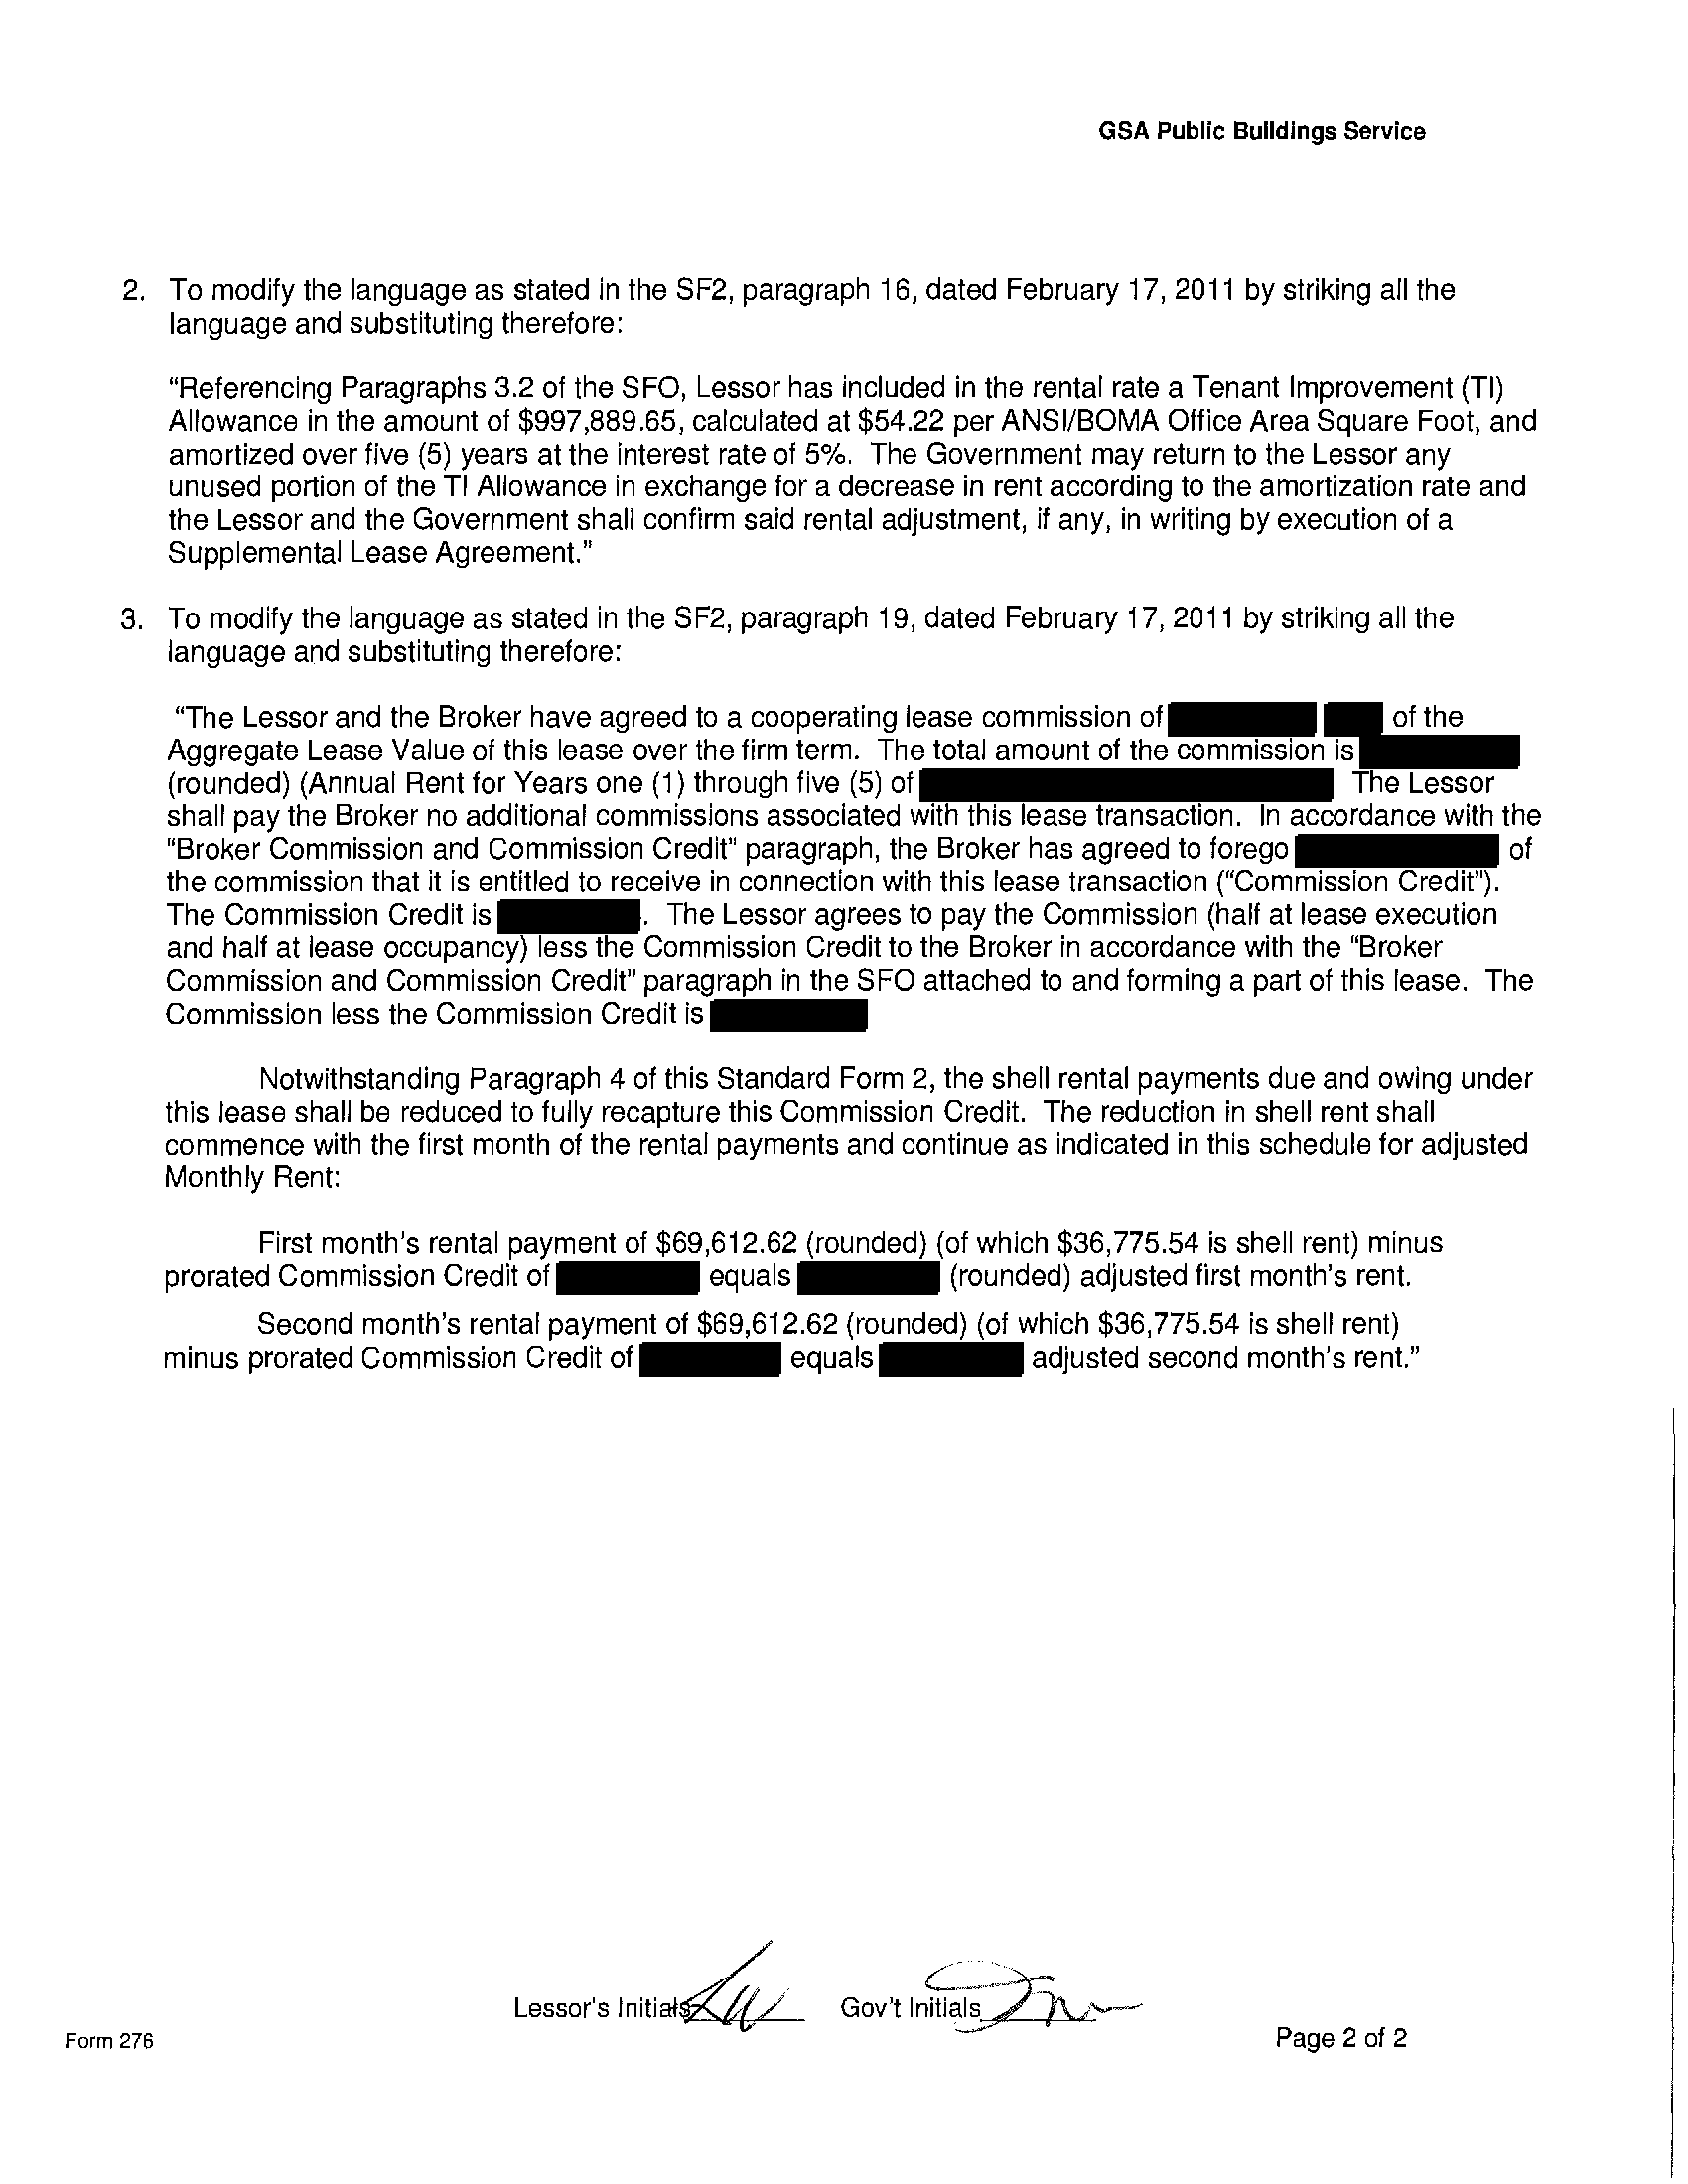handwritten: (950, 1932, 1163, 2039), (681, 1930, 798, 2046)
